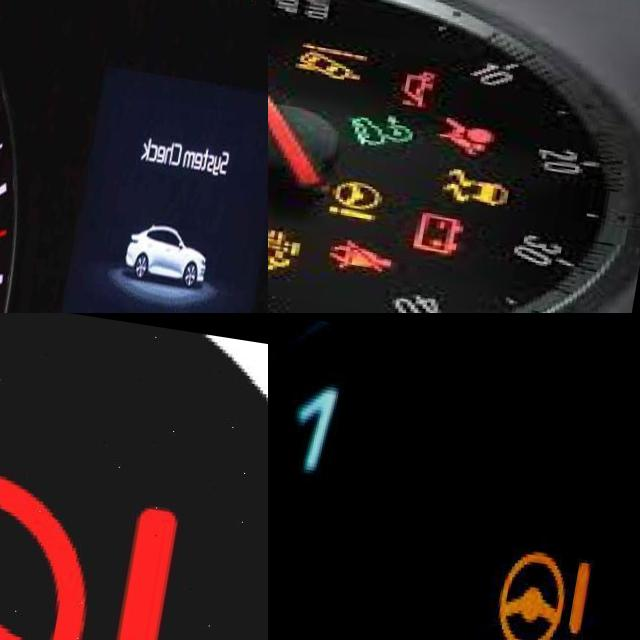Electronic Power Steering: (502, 533, 600, 640), (337, 164, 395, 211)
Electronic Power Steering Warning: (0, 435, 192, 640)
Seat Belt: (342, 224, 410, 270)
